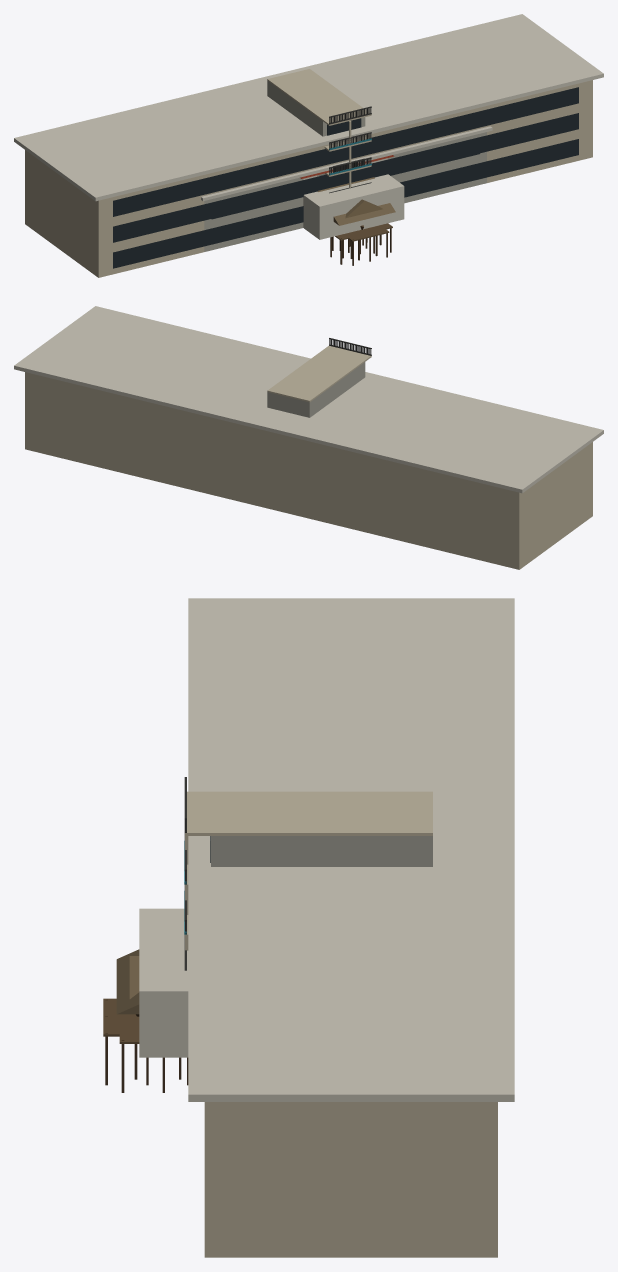
The model's file is nha-pho.glb.
3 renders of one model, top to bottom at view 1: azimuth 30°, elevation 25°; view 2: azimuth 150°, elevation 25°; view 3: azimuth 270°, elevation 25°, orthographic. The views are drawn at different scales.
Visible parts, largest first — view 1: KhoiChinh, KhoiDai, NhaB, LaB, LaA; view 2: KhoiChinh, NhaB; view 3: KhoiChinh, NhaB, LaA, LaB.
Boxes of the visible parts, x1,y1,x2,y2 form: KhoiChinh: [14, 14, 603, 277]; KhoiDai: [201, 126, 492, 251]; NhaB: [267, 69, 371, 193]; LaB: [317, 177, 395, 264]; LaA: [332, 199, 389, 265]; KhoiChinh: [14, 306, 603, 569]; NhaB: [267, 338, 371, 417]; KhoiChinh: [139, 598, 514, 1257]; NhaB: [184, 777, 432, 970]; LaA: [103, 956, 188, 1085]; LaB: [116, 949, 164, 1092].
Size of the model in its own units: 72 by 18.3 by 25.2.
